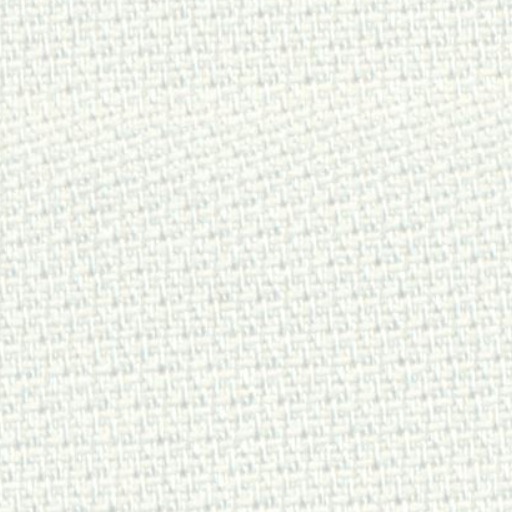TuoSha: (18, 74, 477, 279)
